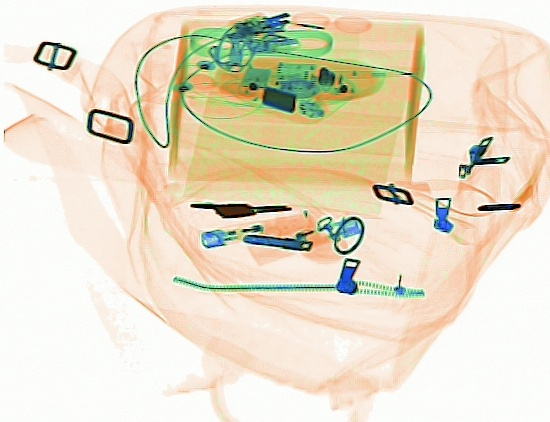lighter: (198, 207, 315, 247)
